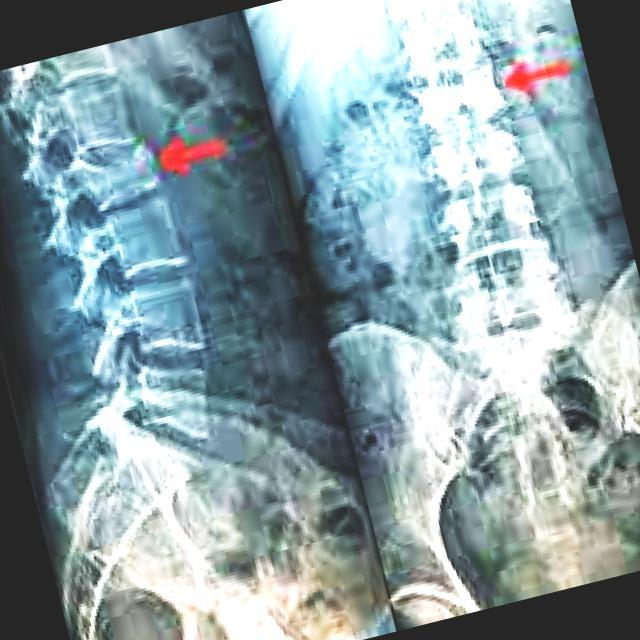Compression-Crush Fracutre: (75, 159, 177, 197), (408, 92, 511, 114)
